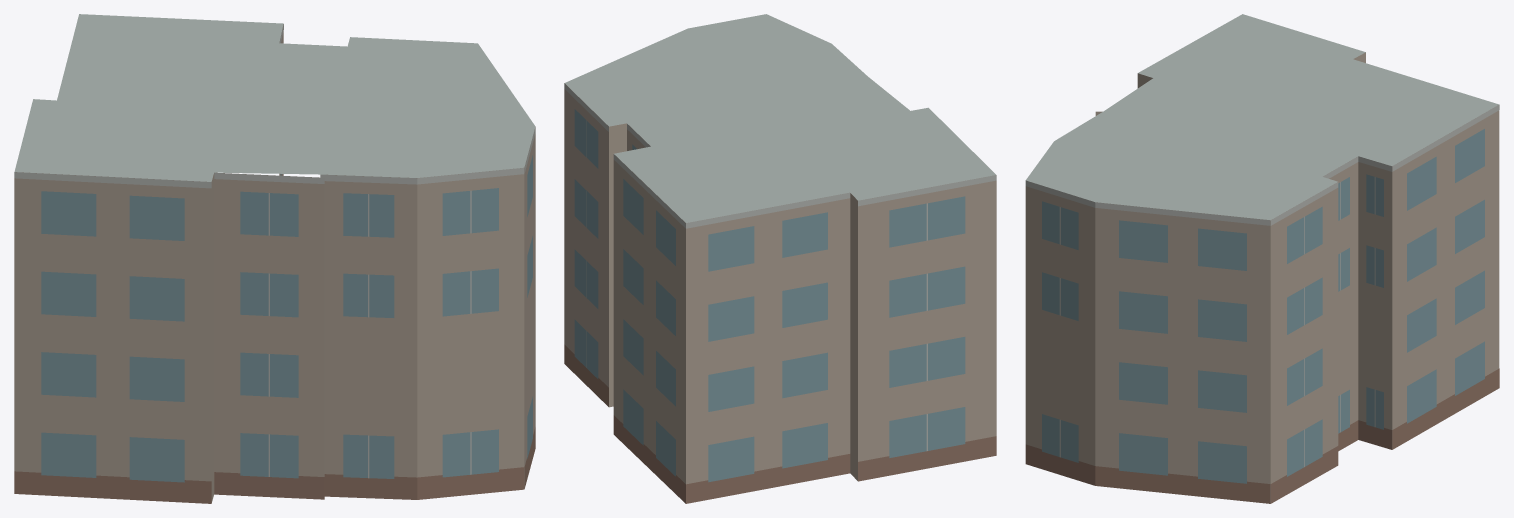
Rendered from survey-upis-32479045.glb.
3 renders of one model, left to right at view 1: azimuth 30°, elevation 25°; view 2: azimuth 150°, elevation 25°; view 3: azimuth 270°, elevation 25°, orthographic. The views are drawn at different scales.
Visible parts, largest first — view 1: survey-upis-32479045.tmp; view 2: survey-upis-32479045.tmp; view 3: survey-upis-32479045.tmp.
Boxes of the visible parts, left/top/right/bottom form: survey-upis-32479045.tmp: left=14, top=14, right=535, bottom=503; survey-upis-32479045.tmp: left=564, top=14, right=996, bottom=503; survey-upis-32479045.tmp: left=1025, top=14, right=1499, bottom=503.
Bounding box in the file's own units: 19.03 × 12.2 × 18.48.
